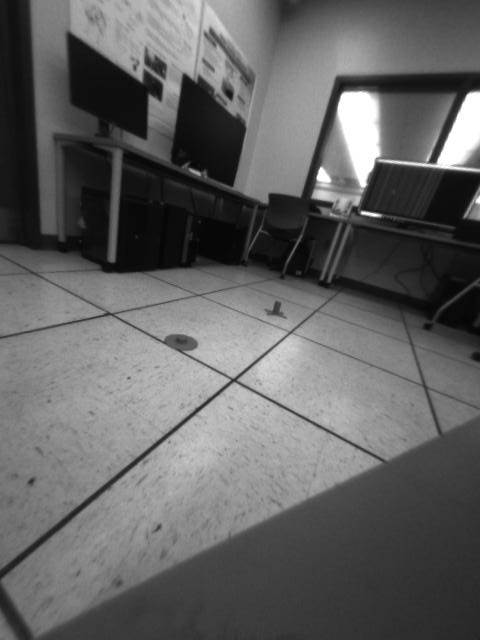X: (263, 300, 289, 319)
